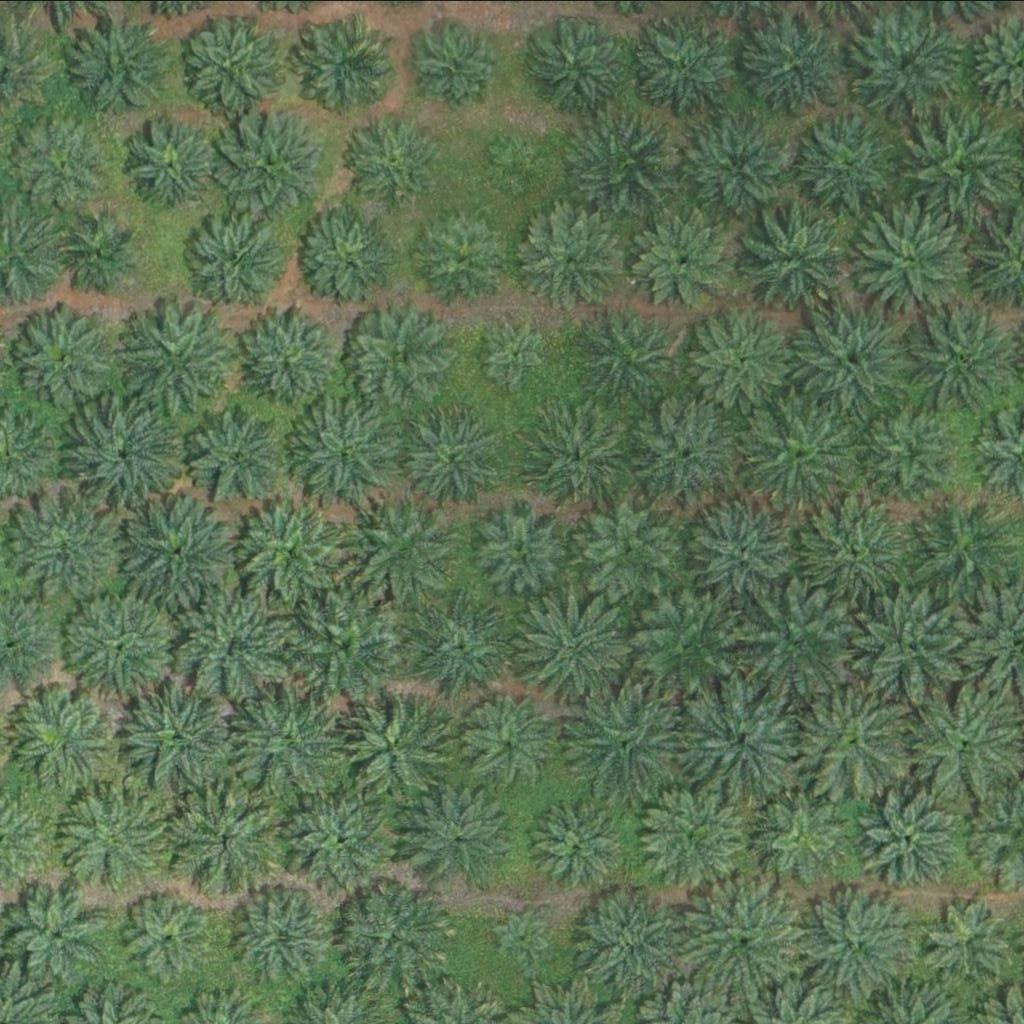Kelapa_Sawit: (174, 8, 288, 121), (213, 110, 327, 223), (627, 591, 741, 704), (563, 685, 677, 798), (407, 779, 521, 892), (737, 584, 851, 697), (903, 299, 1017, 412), (60, 778, 173, 891), (169, 786, 282, 899), (7, 486, 120, 599), (117, 494, 230, 607), (524, 9, 637, 122), (292, 393, 405, 506), (238, 492, 351, 605), (237, 681, 350, 794), (336, 690, 449, 803), (685, 685, 798, 798), (288, 781, 401, 894), (798, 684, 911, 797), (857, 589, 970, 702), (736, 395, 849, 508), (796, 298, 909, 411), (857, 204, 970, 317), (7, 303, 121, 415), (688, 497, 802, 609), (342, 880, 456, 992), (796, 489, 910, 601), (124, 679, 237, 791), (67, 591, 180, 703), (179, 590, 292, 702), (60, 399, 173, 511), (125, 301, 238, 413), (68, 6, 181, 118), (632, 9, 745, 121), (561, 108, 674, 220), (683, 110, 796, 222), (633, 398, 746, 510), (349, 491, 462, 603), (289, 588, 402, 700), (401, 592, 514, 704), (513, 590, 626, 702), (640, 779, 753, 891), (574, 885, 687, 997), (687, 883, 800, 995), (805, 889, 918, 1001), (910, 683, 1023, 795), (737, 202, 850, 314), (790, 112, 903, 224), (906, 113, 1019, 225), (853, 10, 966, 122), (5, 886, 106, 986), (11, 690, 112, 790), (189, 405, 290, 505), (343, 106, 444, 206), (292, 208, 393, 308), (411, 204, 512, 304), (519, 212, 620, 312), (630, 212, 731, 312), (237, 308, 338, 408), (349, 307, 450, 407), (575, 305, 676, 405), (691, 307, 792, 407), (398, 407, 499, 507), (531, 410, 632, 510), (475, 497, 576, 597), (578, 497, 679, 597), (745, 786, 846, 886), (856, 790, 957, 890), (745, 16, 846, 116), (234, 883, 334, 983), (188, 215, 288, 315), (11, 113, 111, 213), (123, 116, 223, 216), (298, 16, 398, 116), (457, 693, 557, 793), (526, 795, 626, 895), (873, 409, 961, 497), (124, 890, 212, 977), (414, 23, 502, 110), (57, 217, 133, 292), (481, 319, 556, 394), (485, 135, 548, 197), (490, 906, 553, 968)
